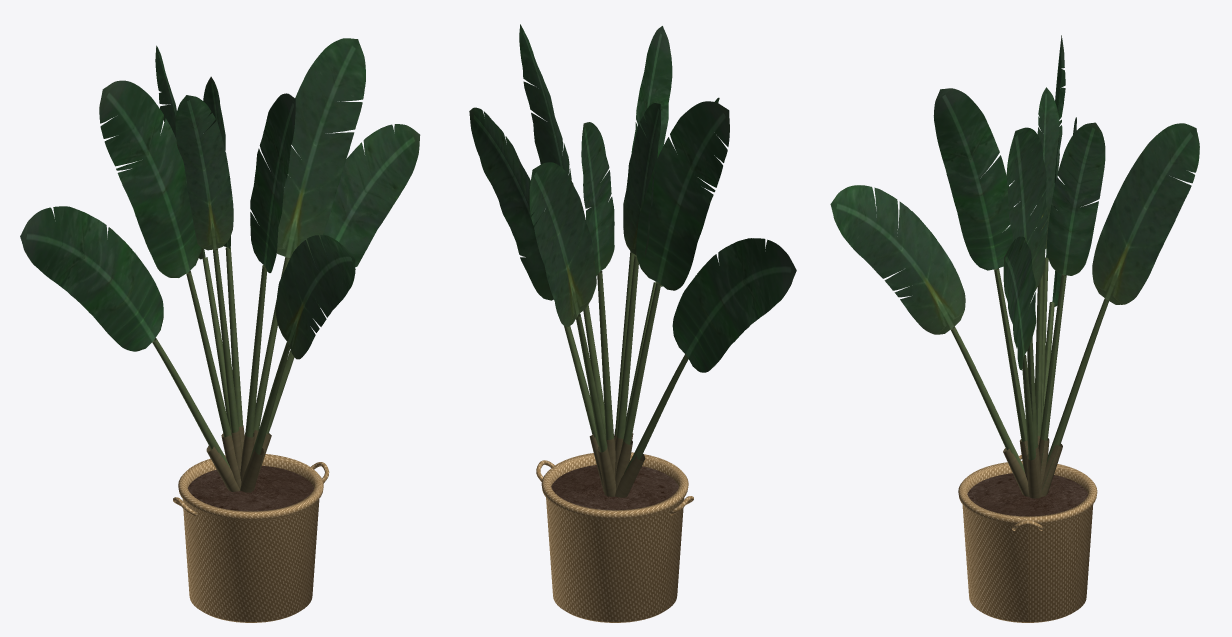
Rendered from strelitzia_150.glb.
The picture shows the model from 3 angles, left to right: view 1: azimuth 30°, elevation 25°; view 2: azimuth 150°, elevation 25°; view 3: azimuth 270°, elevation 25°; orthographic projection. The views are drawn at different scales.
Visible parts, largest first — view 1: strelitzia_150; view 2: strelitzia_150; view 3: strelitzia_150.
Part boxes in pixels (<box>): strelitzia_150: <box>20,38,420,622</box>; strelitzia_150: <box>469,24,796,622</box>; strelitzia_150: <box>830,35,1199,622</box>.
Size of the model in its own units: 1.05 by 1.5 by 1.
Materials: 3 (3 with a texture image).
